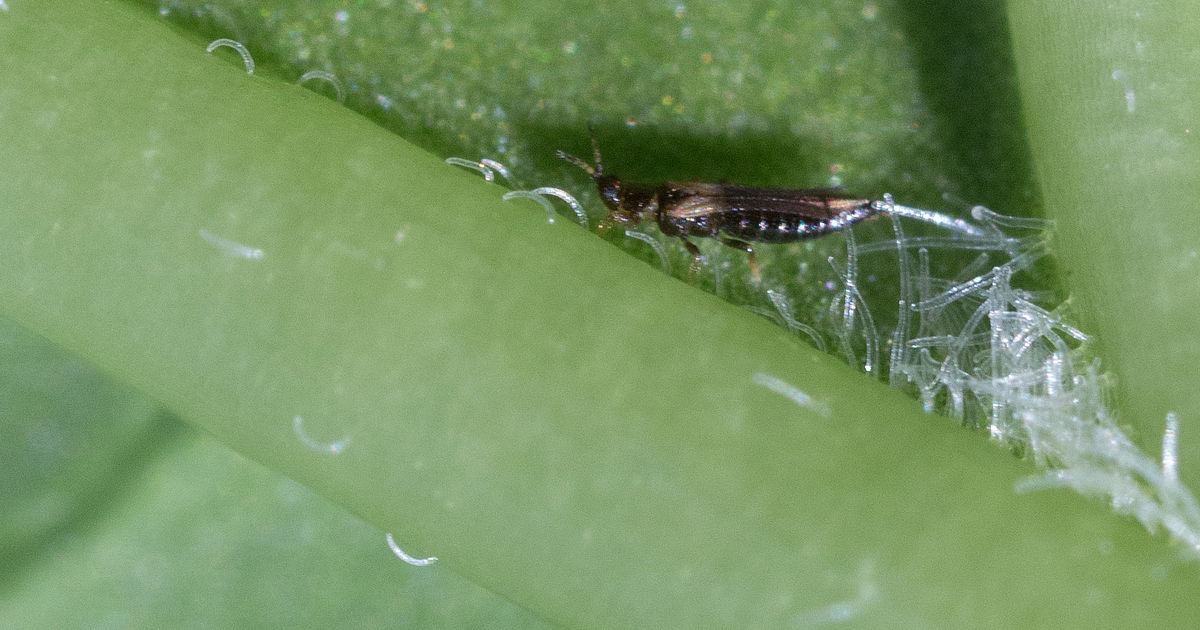Thrips: (570, 143, 897, 261)
